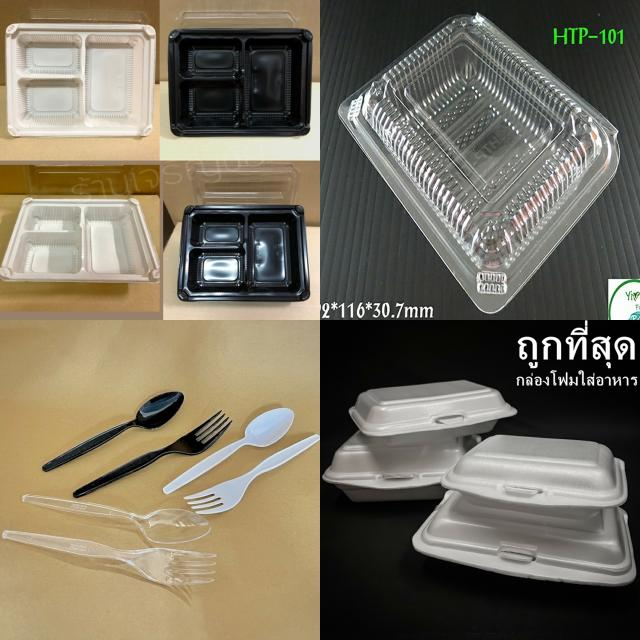Single-Use-Plastic: (338, 15, 619, 313), (412, 490, 636, 586), (441, 435, 628, 531), (6, 24, 155, 136), (168, 29, 312, 136), (74, 411, 231, 497), (0, 199, 160, 282), (178, 206, 309, 301), (2, 530, 216, 584), (42, 391, 184, 471), (162, 408, 294, 494), (349, 380, 518, 447), (322, 431, 480, 502), (184, 435, 320, 514), (22, 495, 211, 543)
